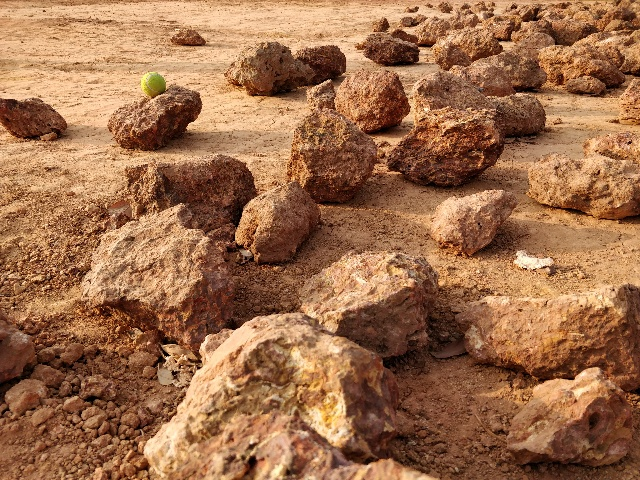ball: (137, 69, 167, 98)
